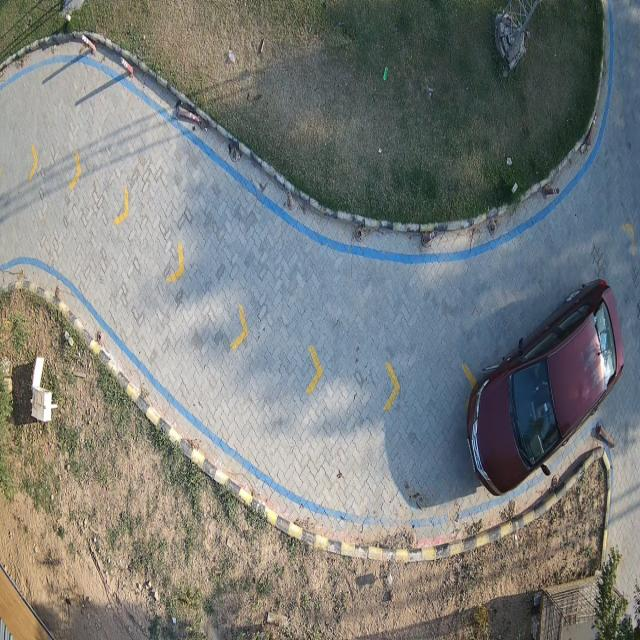car: (468, 280, 624, 496)
